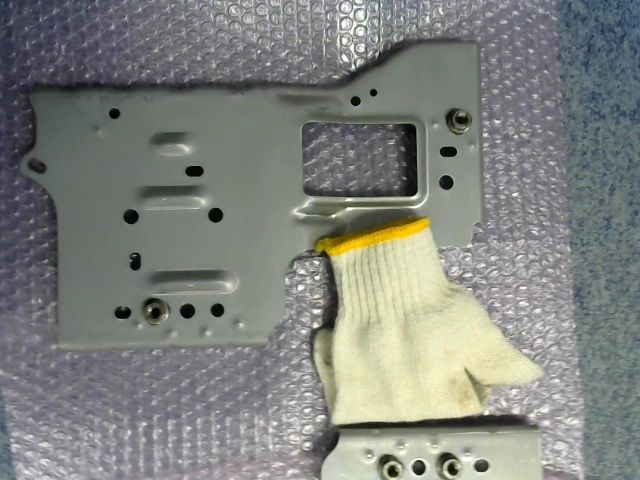dog: (445, 107, 472, 136), (143, 299, 171, 325)
